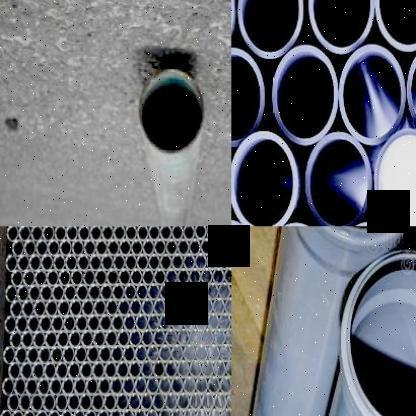pipe: (341, 250, 416, 416), (339, 44, 406, 146), (272, 44, 338, 146), (303, 132, 372, 226), (232, 130, 298, 226), (140, 67, 204, 157), (373, 128, 416, 226), (238, 0, 304, 59), (309, 0, 374, 54), (231, 48, 265, 148), (374, 0, 416, 52), (407, 40, 416, 140), (6, 392, 20, 414), (170, 342, 184, 364), (30, 393, 44, 414), (170, 375, 184, 396), (158, 375, 172, 396), (55, 392, 68, 414), (79, 392, 92, 414), (37, 376, 50, 398), (159, 342, 172, 364), (195, 342, 208, 364), (42, 394, 56, 414), (152, 392, 166, 412), (164, 392, 178, 412), (92, 360, 106, 380), (2, 345, 16, 365), (74, 344, 88, 364), (32, 330, 46, 350), (58, 268, 72, 288), (70, 268, 84, 288), (86, 376, 99, 397), (98, 376, 111, 397), (134, 375, 147, 396), (146, 375, 159, 396), (8, 361, 21, 382), (92, 392, 104, 414), (26, 376, 38, 398), (27, 344, 39, 366), (51, 344, 63, 366), (219, 342, 231, 364), (183, 342, 195, 364), (19, 393, 32, 413), (44, 361, 57, 381), (68, 361, 81, 381), (165, 360, 178, 380), (153, 360, 166, 380), (15, 345, 28, 365), (62, 345, 75, 365), (87, 344, 100, 364), (81, 329, 94, 349), (39, 314, 52, 334), (63, 314, 76, 334), (40, 254, 53, 274), (104, 392, 116, 413), (14, 376, 26, 397), (74, 376, 86, 397), (219, 375, 231, 396), (196, 375, 208, 396), (183, 375, 195, 396), (214, 359, 226, 380), (202, 359, 214, 380), (135, 343, 147, 364), (68, 330, 82, 348), (106, 328, 118, 349), (94, 328, 106, 349), (118, 328, 130, 349), (190, 327, 202, 348), (202, 327, 214, 348), (177, 327, 189, 348), (106, 297, 118, 318), (190, 297, 202, 318), (177, 297, 189, 318), (4, 285, 18, 303), (119, 238, 132, 257), (20, 362, 33, 381), (52, 283, 65, 302), (88, 283, 101, 302), (23, 269, 36, 288), (208, 342, 219, 364), (68, 393, 80, 413), (116, 392, 128, 412), (214, 392, 226, 412), (140, 392, 152, 412), (128, 392, 140, 412), (202, 392, 214, 412), (177, 392, 189, 412), (2, 377, 14, 397), (50, 376, 62, 396), (62, 376, 74, 396), (110, 376, 122, 396), (122, 376, 134, 396), (56, 361, 68, 381), (80, 360, 92, 380), (104, 360, 116, 380), (117, 360, 129, 380), (129, 360, 141, 380), (141, 360, 153, 380), (190, 360, 202, 380), (178, 360, 190, 380), (38, 345, 50, 365), (100, 344, 112, 364), (111, 344, 123, 364), (124, 344, 136, 364), (10, 330, 22, 350), (57, 330, 69, 350), (130, 328, 142, 348), (142, 328, 154, 348), (154, 328, 166, 348), (166, 328, 178, 348), (4, 314, 16, 334), (16, 314, 28, 334), (28, 314, 40, 334), (52, 314, 64, 334), (76, 314, 88, 334), (88, 313, 100, 333), (100, 312, 112, 332), (124, 312, 136, 332), (171, 312, 183, 332), (148, 312, 160, 332), (136, 312, 148, 332), (160, 312, 172, 332), (207, 312, 219, 332), (10, 300, 22, 320), (22, 299, 34, 319), (46, 298, 58, 318), (70, 298, 82, 318), (82, 298, 94, 318), (94, 298, 106, 318), (154, 297, 166, 317), (142, 297, 154, 317), (166, 297, 178, 317), (213, 297, 225, 317), (18, 284, 30, 304), (136, 282, 148, 302), (148, 282, 160, 302), (207, 281, 219, 301), (218, 281, 230, 301), (84, 268, 96, 288), (107, 268, 119, 288), (177, 267, 189, 287), (18, 254, 30, 274), (218, 252, 230, 272), (206, 252, 218, 272), (12, 239, 25, 257), (195, 313, 208, 331), (5, 254, 18, 272), (89, 254, 102, 272), (65, 254, 78, 272), (53, 254, 66, 272), (171, 254, 184, 272), (208, 375, 219, 396), (214, 327, 225, 348), (166, 238, 178, 257), (154, 238, 166, 257), (200, 237, 212, 256), (32, 362, 44, 381), (22, 330, 34, 349), (45, 330, 57, 349), (118, 298, 130, 317), (130, 298, 142, 317), (76, 283, 88, 302), (64, 283, 76, 302), (100, 283, 112, 302), (160, 282, 172, 301), (11, 269, 23, 288), (35, 269, 47, 288), (118, 268, 130, 287), (130, 268, 142, 287), (190, 392, 201, 412), (219, 312, 230, 332), (24, 239, 36, 257), (60, 239, 72, 257), (84, 239, 96, 257), (48, 239, 60, 257), (72, 239, 84, 257), (177, 238, 189, 256), (36, 238, 48, 256), (146, 344, 158, 362), (112, 314, 124, 332), (183, 313, 195, 331), (34, 300, 46, 318), (58, 300, 70, 318), (40, 284, 52, 302), (124, 283, 136, 301), (195, 282, 207, 300), (47, 269, 59, 287), (95, 269, 107, 287), (154, 268, 166, 286), (166, 268, 178, 286), (212, 268, 224, 286), (200, 268, 212, 286), (30, 254, 42, 272), (78, 254, 90, 272), (112, 254, 124, 272), (102, 254, 114, 272), (125, 254, 137, 272), (148, 254, 160, 272), (160, 254, 172, 272), (202, 297, 212, 318), (108, 238, 119, 257), (143, 238, 154, 257), (212, 238, 224, 255), (30, 226, 42, 243), (90, 226, 102, 243), (78, 226, 90, 243), (65, 226, 77, 243), (54, 226, 66, 243), (6, 226, 18, 243), (171, 283, 183, 300), (96, 239, 107, 257), (190, 238, 201, 256), (143, 268, 154, 286), (190, 268, 201, 286), (137, 254, 148, 272), (195, 254, 206, 272), (112, 226, 124, 242), (125, 226, 137, 242), (160, 226, 172, 242), (182, 226, 194, 242), (112, 284, 124, 300), (30, 284, 40, 303), (184, 282, 194, 301), (20, 226, 31, 243), (184, 254, 194, 272), (131, 240, 142, 256), (101, 226, 112, 242), (137, 226, 148, 242), (148, 226, 159, 242), (170, 226, 182, 240), (194, 226, 206, 240), (217, 226, 229, 240), (42, 226, 52, 242), (206, 226, 217, 240), (224, 237, 232, 256), (224, 297, 232, 316), (224, 267, 232, 285), (170, 407, 184, 416), (158, 407, 172, 416), (226, 327, 232, 348), (226, 392, 232, 412), (226, 359, 232, 379), (208, 407, 220, 416), (184, 407, 196, 416), (134, 407, 146, 416), (0, 408, 13, 416), (122, 408, 135, 416), (84, 409, 98, 416), (96, 409, 110, 416), (196, 408, 208, 416), (146, 408, 158, 416), (110, 408, 122, 416), (220, 408, 232, 416), (48, 409, 61, 416), (23, 409, 36, 416), (72, 409, 85, 416), (60, 409, 73, 416), (12, 409, 24, 416), (36, 410, 48, 416)
